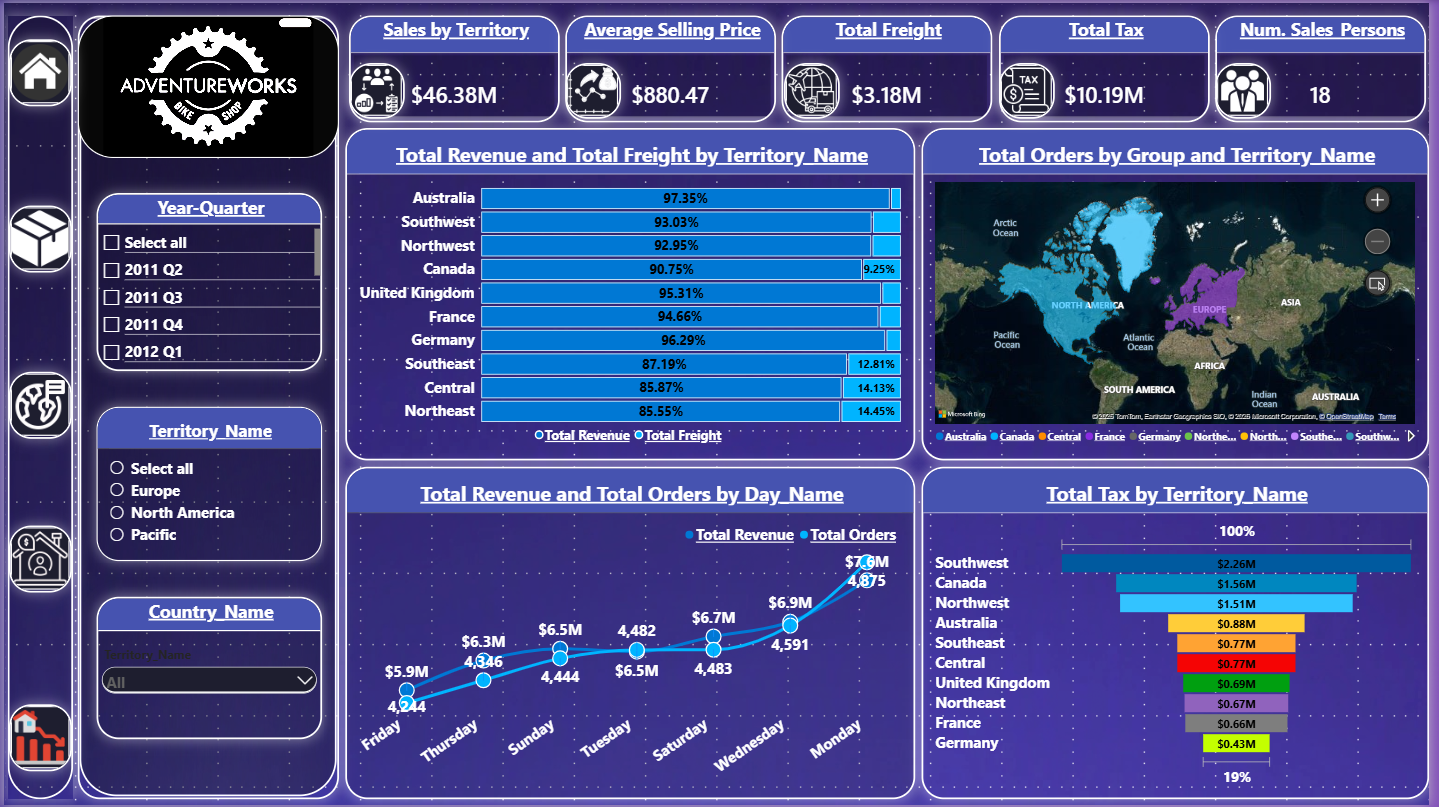

This screenshot's page, from the dashboard's own definition file:
{"tool":"powerbi","page":{"name":"Territory_Dashboard","canvas":[1920,1080],"ordinal":2},"visuals":[{"type":"cardVisual","fields":{"Data":["Measures_Table.Total Tax"]},"box":[3389.7,146.7,449.4,209.1],"z":0},{"type":"cardVisual","title":"Sales by Territory","fields":{"Data":["Measures_Table.Sales by Territory"]},"box":[464,16,284,144],"z":1000},{"type":"cardVisual","title":"Total Freight","fields":{"Data":["Measures_Table.Total Freight"]},"box":[1048,16,284,144],"z":2000},{"type":"cardVisual","title":"Num. Sales_Persons","fields":{"Data":["Measures_Table.Total SalesPersons"]},"box":[1632,16,284,144],"z":3000},{"type":"cardVisual","title":"Total Tax","fields":{"Data":["Measures_Table.Total Tax"]},"box":[1340,16,284,144],"z":4000},{"type":"cardVisual","title":"Average Selling Price","fields":{"Data":["Measures_Table.Average Selling Price"]},"box":[756,16,284,144],"z":5000},{"type":"image","box":[100,16,352,1056],"z":6000},{"type":"image","box":[100,16,352,192],"z":7000},{"type":"image","box":[5,16,88,1056],"z":8000},{"type":"slicer","title":"   Year-Quarter","fields":{"Values":["Dim_Date.Year Quarter"]},"box":[125,256,304,240],"z":9000},{"type":"listSlicer","title":"Territory_Name","fields":{"Values":["Dim_SalesTerritory.Group"]},"box":[125,544,304,208],"z":10000},{"type":"slicer","title":"Country_Name","fields":{"Values":["Dim_SalesTerritory.Territory_Name"]},"box":[125,800,304,192],"z":11000},{"type":"filledMap","fields":{"Category":["Dim_SalesTerritory.Group","Dim_SalesTerritory.Territory_Name"],"Series":["Dim_SalesTerritory.Territory_Name"]},"box":[1236,168,684,448],"z":12000},{"type":"hundredPercentStackedBarChart","fields":{"Category":["Dim_SalesTerritory.Territory_Name"],"Y":["Measures_Table.Total Revenue","Measures_Table.Total Freight"]},"box":[460,168,768,448],"z":13000},{"type":"areaChart","fields":{"Category":["Dim_Date.Day_Name"],"Y":["Measures_Table.Total Revenue"],"Y2":["Measures_Table.Total Orders"]},"box":[460,624,768,448],"z":14000},{"type":"funnel","fields":{"Category":["Dim_SalesTerritory.Territory_Name"],"Y":["Measures_Table.Total Tax"]},"box":[1236,624,684,448],"z":15000},{"type":"image","box":[7,48,85,90],"z":16000},{"type":"image","box":[7,272,85,90],"z":17000},{"type":"image","box":[7,496,85,90],"z":18000},{"type":"image","box":[7,704,85,90],"z":19000},{"type":"image","box":[7,944,85,90],"z":20000},{"type":"image","box":[464,80,75,75],"z":21000},{"type":"image","box":[757,80,75,75],"z":22000},{"type":"image","box":[1051,80,75,75],"z":23000},{"type":"image","box":[1341,80,75,75],"z":24000},{"type":"image","box":[1632,80,75,75],"z":25000}]}

Visuals, with their boxes in screenshot pixels (x1, y1, x2, y2), scaled from the page's 1920x1080 canvas onto the 1439x807 screenshot:
"Sales by Territory" cardVisual: [left=348, top=12, right=561, bottom=120]
"Total Freight" cardVisual: [left=785, top=12, right=998, bottom=120]
"Num. Sales_Persons" cardVisual: [left=1223, top=12, right=1436, bottom=120]
"Total Tax" cardVisual: [left=1004, top=12, right=1217, bottom=120]
"Average Selling Price" cardVisual: [left=567, top=12, right=779, bottom=120]
image: [left=75, top=12, right=339, bottom=801]
image: [left=75, top=12, right=339, bottom=155]
image: [left=4, top=12, right=70, bottom=801]
"   Year-Quarter" slicer: [left=94, top=191, right=322, bottom=371]
"Territory_Name" listSlicer: [left=94, top=406, right=322, bottom=562]
"Country_Name" slicer: [left=94, top=598, right=322, bottom=741]
filledMap - Dim_SalesTerritory.Group x Dim_SalesTerritory.Territory_Name: [left=926, top=126, right=1438, bottom=460]
hundredPercentStackedBarChart - Dim_SalesTerritory.Territory_Name x Measures_Table.Total Revenue: [left=345, top=126, right=920, bottom=460]
areaChart - Dim_Date.Day_Name x Measures_Table.Total Revenue: [left=345, top=466, right=920, bottom=801]
funnel - Dim_SalesTerritory.Territory_Name x Measures_Table.Total Tax: [left=926, top=466, right=1438, bottom=801]
image: [left=5, top=36, right=69, bottom=103]
image: [left=5, top=203, right=69, bottom=270]
image: [left=5, top=371, right=69, bottom=438]
image: [left=5, top=526, right=69, bottom=593]
image: [left=5, top=705, right=69, bottom=773]
image: [left=348, top=60, right=404, bottom=116]
image: [left=567, top=60, right=624, bottom=116]
image: [left=788, top=60, right=844, bottom=116]
image: [left=1005, top=60, right=1061, bottom=116]
image: [left=1223, top=60, right=1279, bottom=116]
